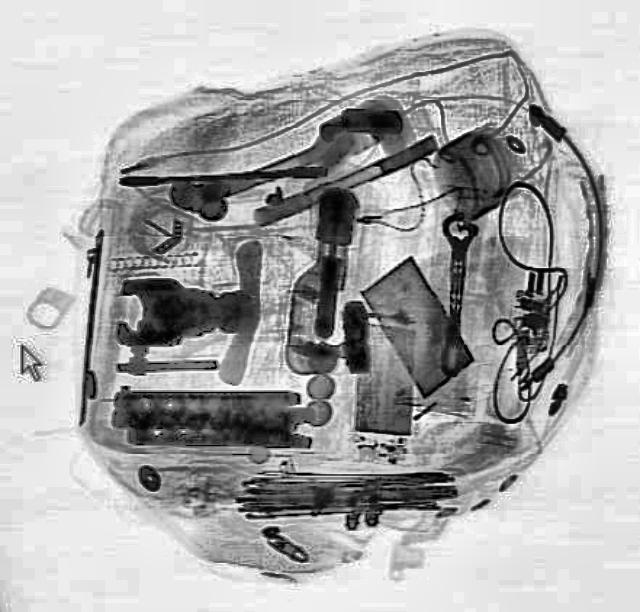Wrench: (432, 210, 476, 376)
